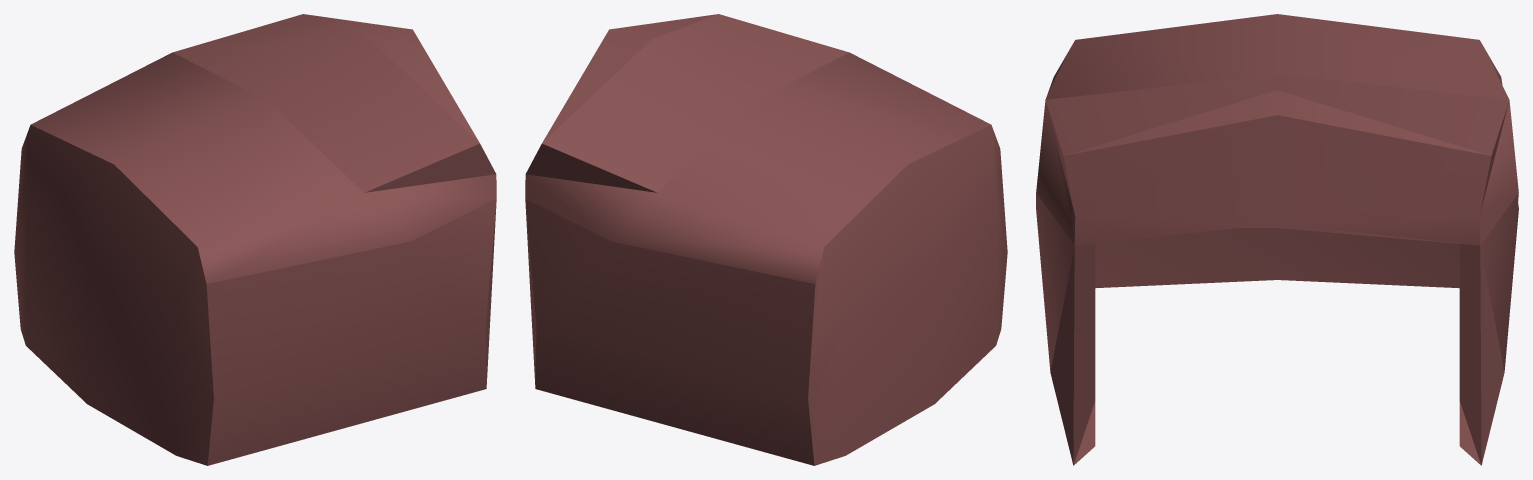
The model's file is SteveWig_v3.fbx.
3 renders of one model, left to right at view 1: azimuth 30°, elevation 25°; view 2: azimuth 150°, elevation 25°; view 3: azimuth 270°, elevation 25°, orthographic. The views are drawn at different scales.
Parts seen in each view (by area): view 1: pCube4; view 2: pCube4; view 3: pCube4.
Boxes of the visible parts, x1,y1,x2,y2 form: pCube4: [14, 14, 496, 465]; pCube4: [525, 14, 1007, 465]; pCube4: [1036, 14, 1518, 465].
Bounding box in the file's own units: 1.09 × 0.9444 × 1.16.
